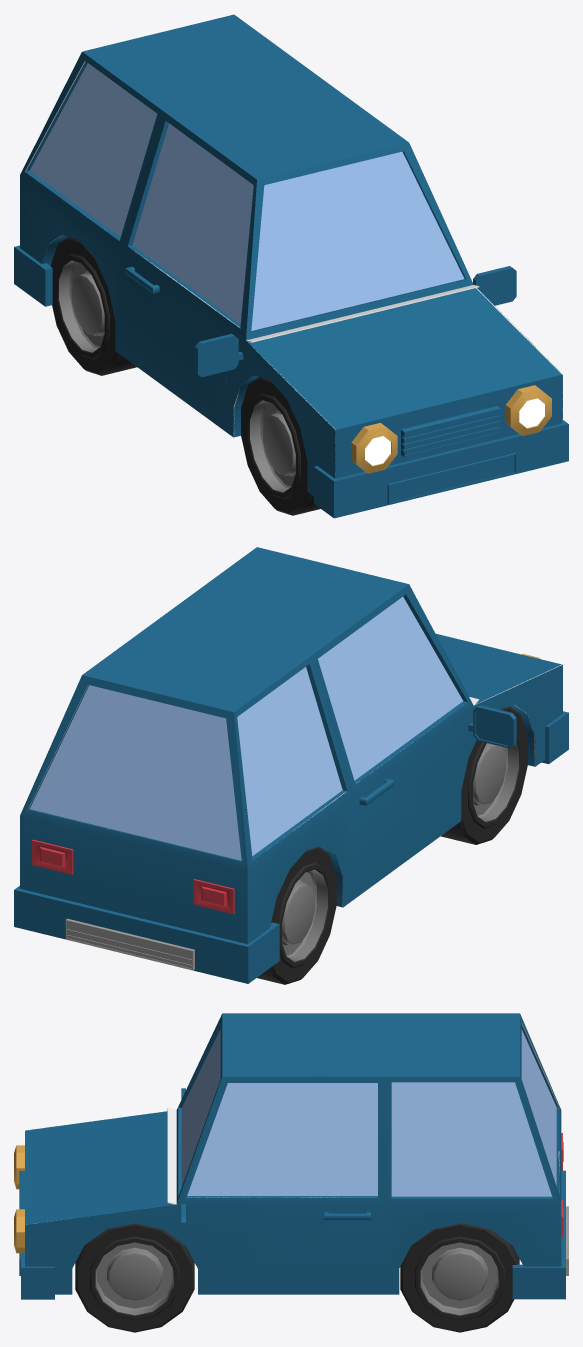
File: car.glb
3 renders of one model, top to bottom at view 1: azimuth 30°, elevation 25°; view 2: azimuth 150°, elevation 25°; view 3: azimuth 270°, elevation 25°, orthographic. The views are drawn at different scales.
Parts seen in each view (by area): view 1: Plane_7; view 2: Plane_7; view 3: Plane_7.
Part boxes in pixels (x1,y1,x2,y2): Plane_7: (14, 14, 568, 518); Plane_7: (14, 547, 568, 984); Plane_7: (14, 1013, 568, 1332).
Bounding box in the file's own units: 12.82 × 10.99 × 22.73.
Materials: 8 (2 with a texture image).
